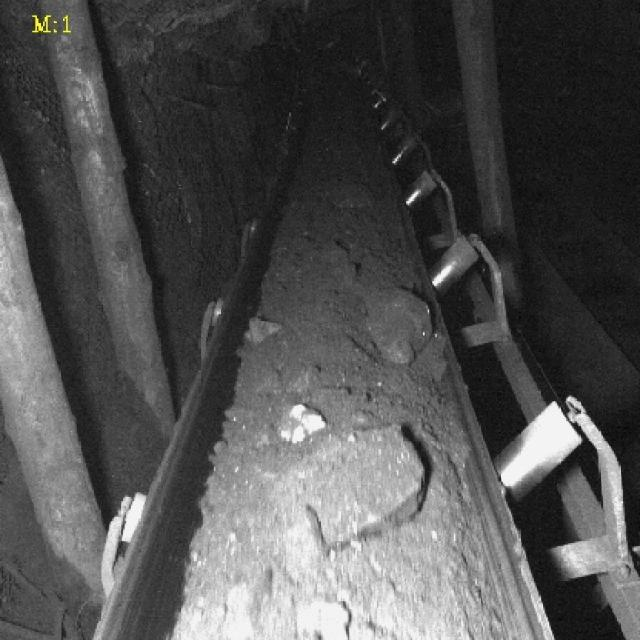large_sized_coal: (280, 428, 428, 557), (362, 289, 432, 366), (280, 509, 329, 557), (279, 405, 326, 443), (237, 315, 283, 348)
